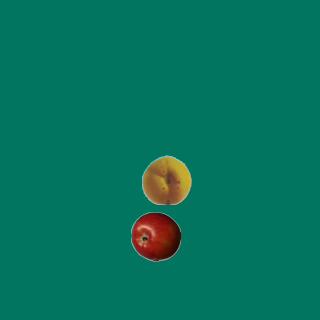Apple Braeburn: (130, 211, 180, 261)
Peach 2: (141, 154, 191, 204)
